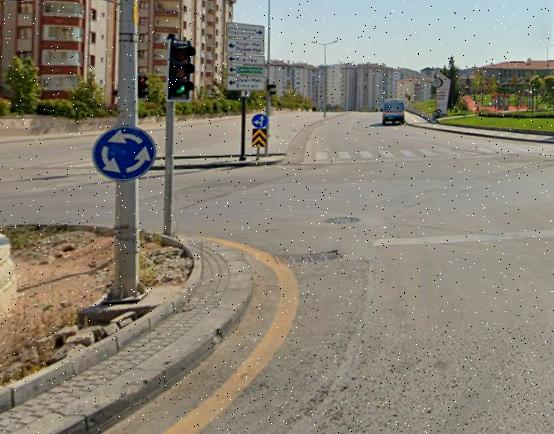crossroads: (96, 127, 156, 180)
greenlight: (169, 41, 192, 99)
